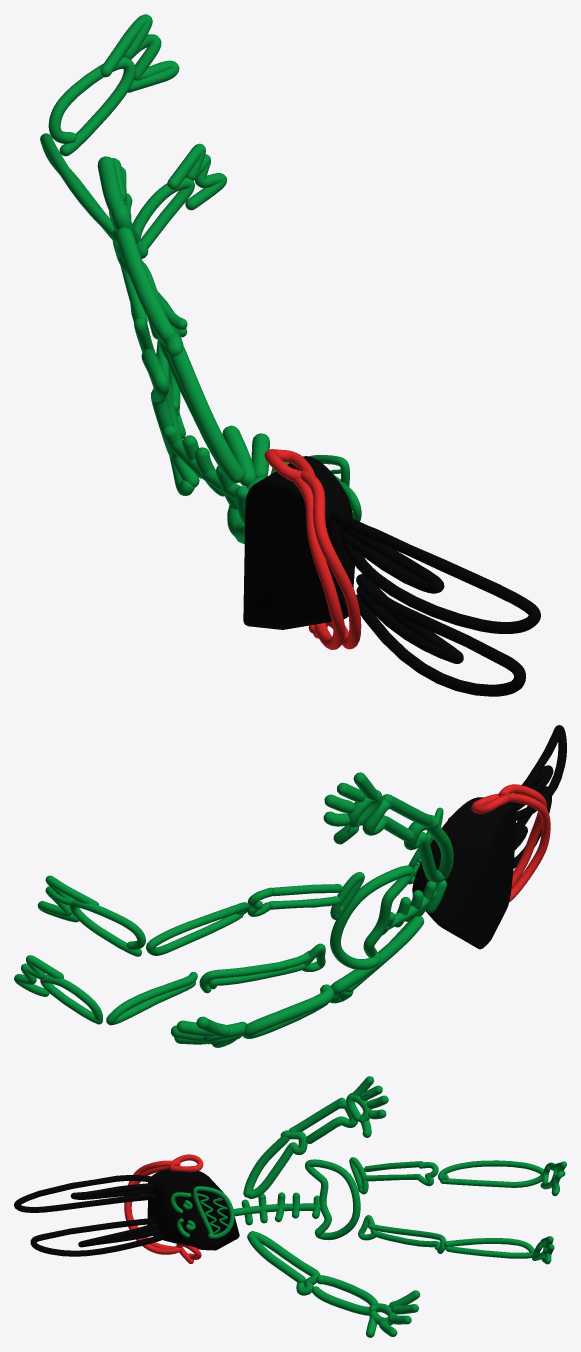
File: heem.glb
The picture shows the model from 3 angles, top to bottom: view 1: azimuth 30°, elevation 25°; view 2: azimuth 150°, elevation 25°; view 3: azimuth 270°, elevation 25°; orthographic projection. The views are drawn at different scales.
Parts seen in each view (by area): view 1: heem; view 2: heem; view 3: heem.
Part boxes in pixels (<box>): heem: <box>40,14,540,696</box>; heem: <box>14,725,566,1047</box>; heem: <box>14,1076,566,1337</box>.
Size of the model in its own units: 0.7809 by 0.9788 by 2.3.
1 material, 1 textured.
